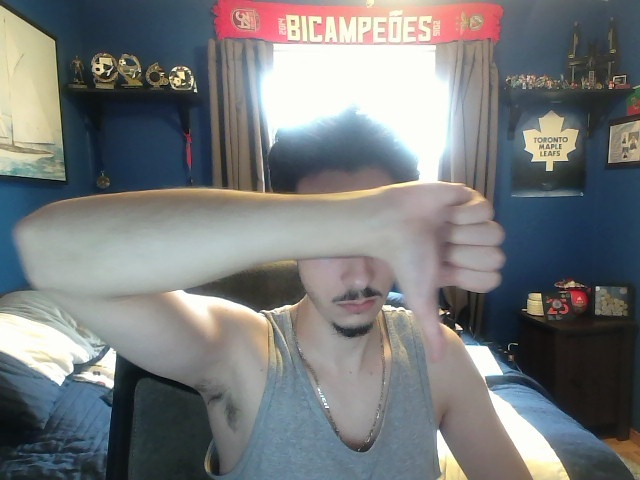ThumbsDown: (376, 181, 508, 363)
